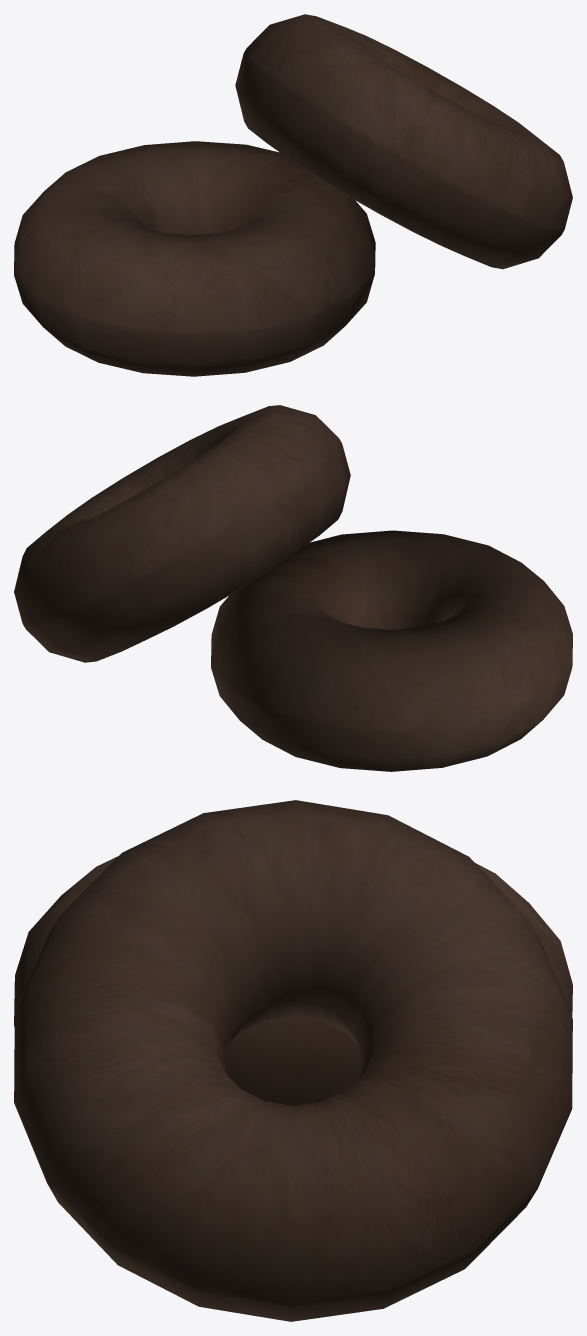
The model's file is Cakes.FBX.
3 views of the same model, one above another, from view 1: azimuth 30°, elevation 25°; view 2: azimuth 150°, elevation 25°; view 3: azimuth 270°, elevation 25° (orthographic). The views are drawn at different scales.
Visible parts, largest first — view 1: cakes; view 2: cakes; view 3: cakes.
Boxes of the visible parts, x1=… form: cakes: x1=14, y1=14, x2=572, y2=376; cakes: x1=14, y1=405, x2=572, y2=771; cakes: x1=14, y1=800, x2=572, y2=1321.
Bounding box in the file's own units: 11.94 × 5.63 × 7.34.
1 material, 1 textured.
